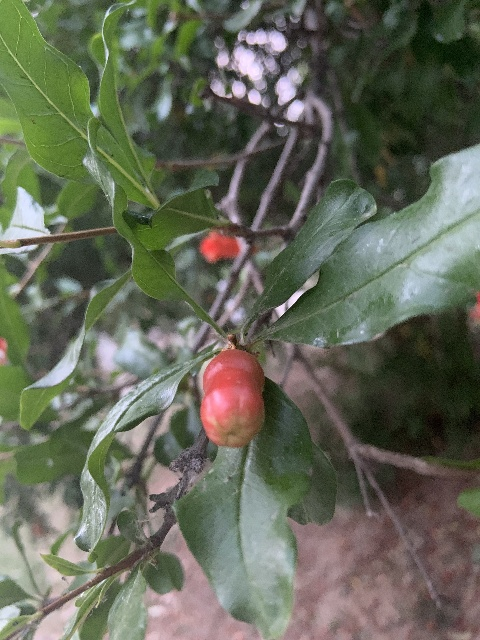bud: (200, 347, 265, 448)
flower: (199, 231, 240, 263)
